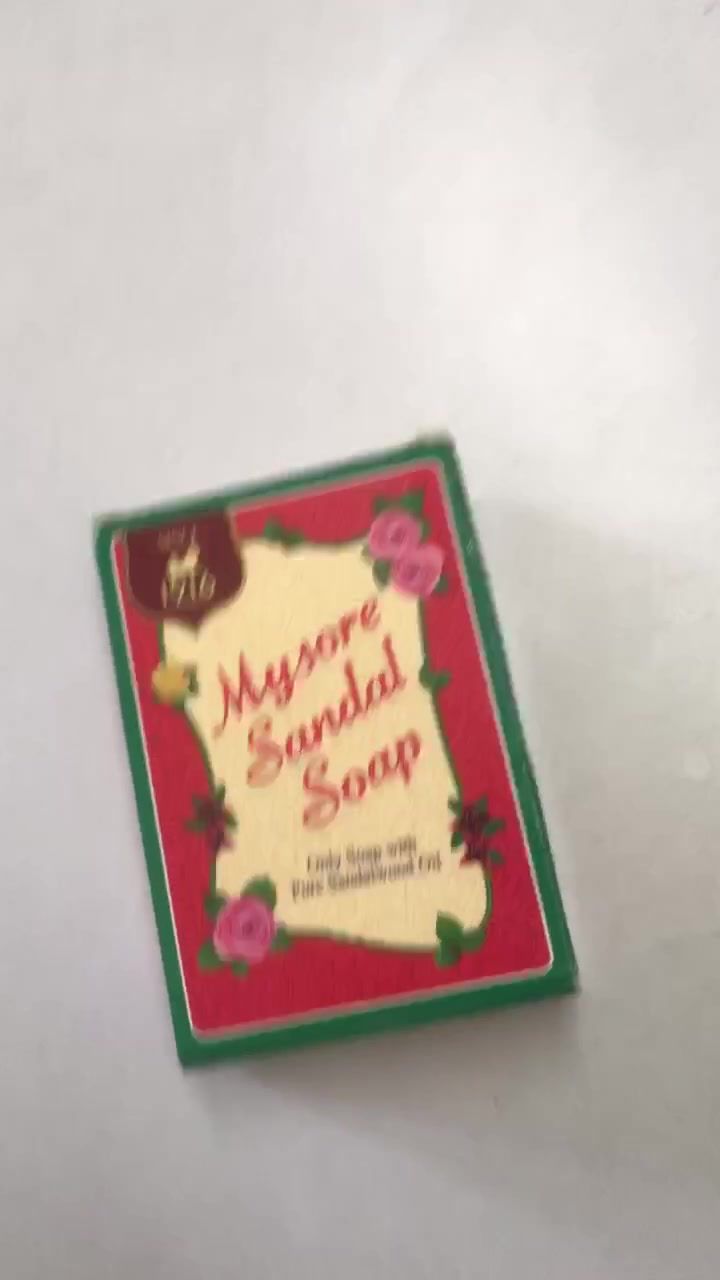mysore sandal soap: (87, 455, 583, 1056)
